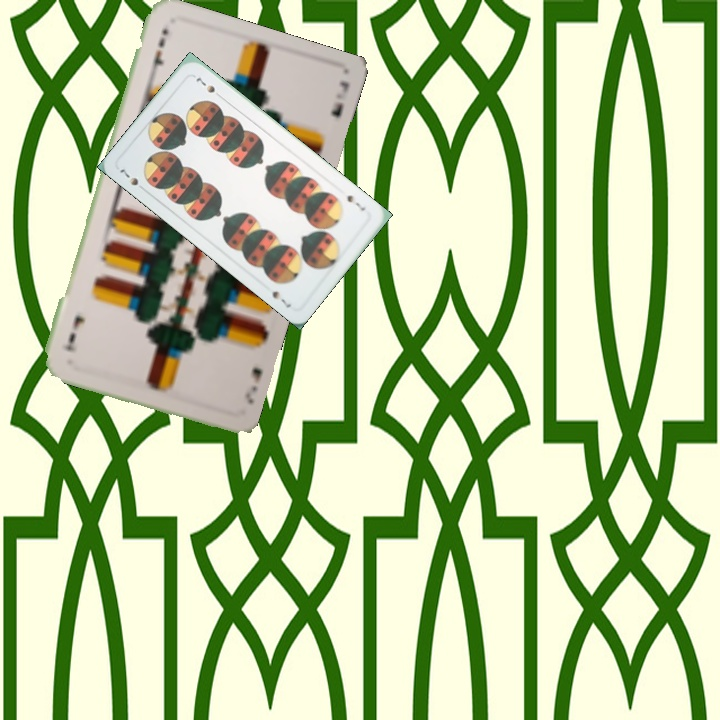E7: (148, 23, 171, 80), (241, 363, 265, 407)
S7: (115, 165, 149, 194), (343, 191, 368, 213)
